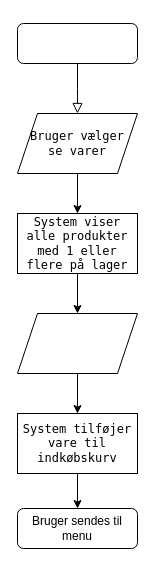
Image size: 155x566. Some labels were removed from this diagram. The shapes that lost their labels are listed below. From the top down, each one's centre as x and y in pixels, then its label:
(x=77, y=43): Tilføj produkt til indkøbskurv
(x=77, y=343): Bruger vælger vare
